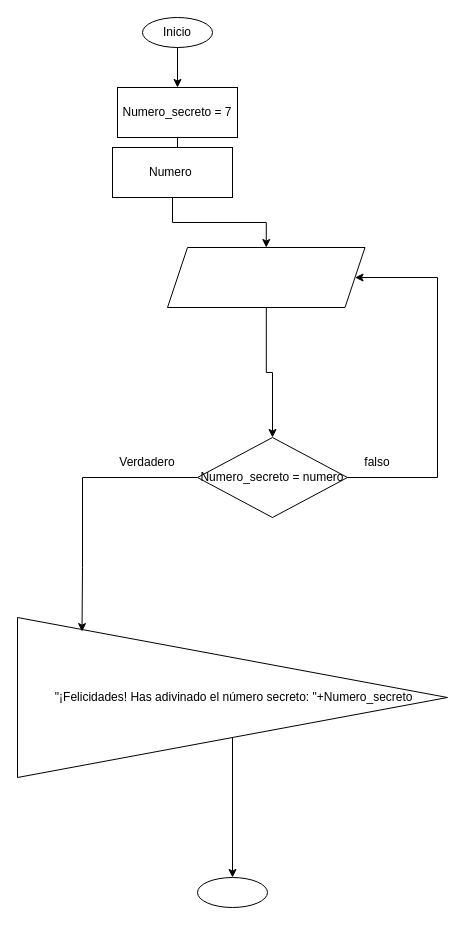
Image size: 465x925. Some labels were removed from this diagram. Each missing label, with the box of its shape:
Fin: (196, 876, 268, 908)
Ingresar un numero del 1 al 10 para adivinar el numero secreto: (166, 246, 365, 308)
